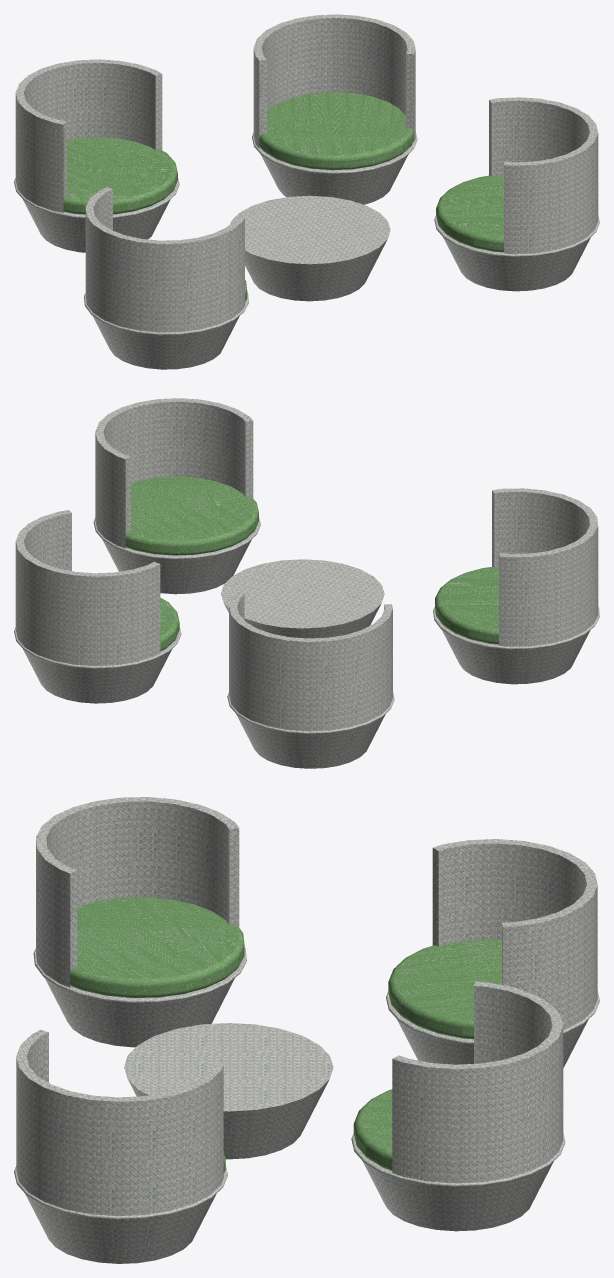
File: garden furniture 8.dae
3 views of the same model, one above another, from view 1: azimuth 30°, elevation 25°; view 2: azimuth 150°, elevation 25°; view 3: azimuth 270°, elevation 25° (orthographic). The views are drawn at different scales.
Visible parts, largest first — view 1: group_4, group_0, group_2, group_7, group_6, group_8, group_3, group_1; view 2: group_7, group_2, group_4, group_0, group_6, group_1, group_5, group_8; view 3: group_0, group_7, group_4, group_2, group_6, group_5, group_3, group_8.
Boxes of the visible parts, x1=… form: group_4: x1=84, y1=187, x2=248, y2=369; group_0: x1=434, y1=97, x2=599, y2=291; group_2: x1=14, y1=59, x2=179, y2=252; group_7: x1=252, y1=14, x2=417, y2=204; group_6: x1=230, y1=195, x2=390, y2=301; group_8: x1=259, y1=92, x2=413, y2=170; group_3: x1=63, y1=137, x2=177, y2=214; group_1: x1=436, y1=175, x2=503, y2=252; group_7: x1=14, y1=510, x2=181, y2=703; group_2: x1=227, y1=593, x2=394, y2=768; group_4: x1=433, y1=488, x2=599, y2=684; group_0: x1=93, y1=398, x2=260, y2=594; group_6: x1=221, y1=559, x2=384, y2=638; group_1: x1=125, y1=476, x2=258, y2=555; group_5: x1=435, y1=566, x2=498, y2=644; group_8: x1=160, y1=597, x2=179, y2=651; group_0: x1=14, y1=1029, x2=227, y2=1263; group_7: x1=351, y1=981, x2=565, y2=1231; group_4: x1=33, y1=797, x2=246, y2=1047; group_2: x1=386, y1=839, x2=599, y2=1067; group_6: x1=124, y1=1023, x2=333, y2=1159; group_5: x1=70, y1=897, x2=244, y2=997; group_3: x1=388, y1=939, x2=501, y2=1039; group_8: x1=353, y1=1089, x2=392, y2=1170.
Size of the model in its own units: 136 by 110 by 36.19.
3 materials, 3 textured.
